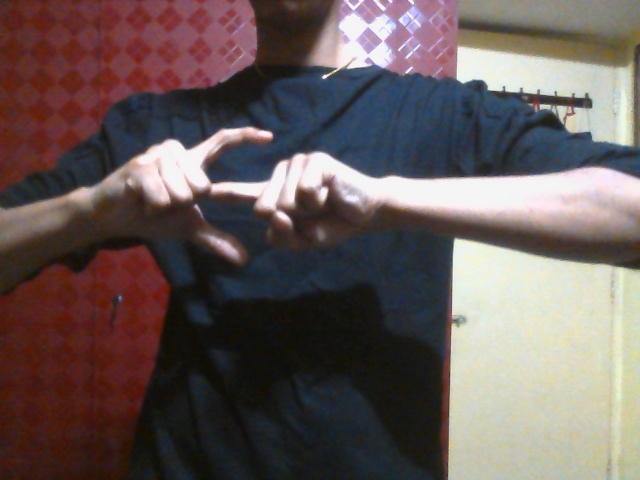E: (117, 124, 381, 268)
